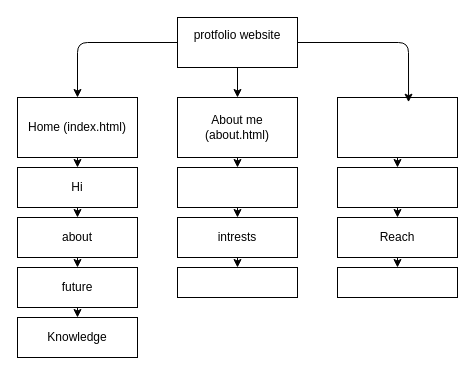
Image size: 475x375. Some labels were removed from this diagram. The shapes that lost their labels are listed below. From the top down, each one's centre as x and y in pixels, then its label:
(397,127): Contact (contact.html)
(237,187): Hobbys
(397,187): contact
(237,282): skills
(397,282): social links
